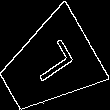L_SW: (22, 40, 76, 92)
